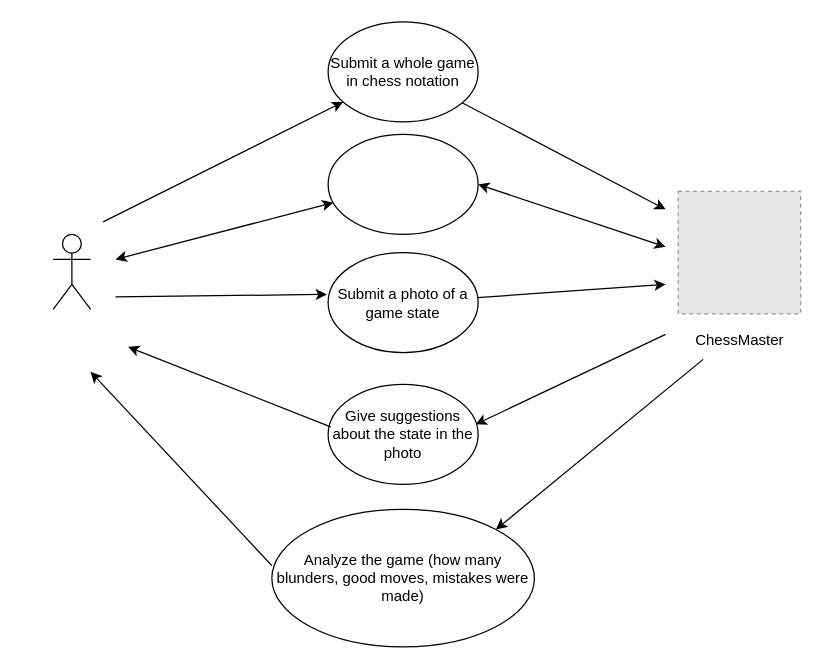
The diagram is 823 pixels wide and 669 high, and some of its shapes have lost their labels. Grey dashed boxes stand in for pictures. The centre of each missing label's shape, as x and y in pixels:
"Opponent/User" belongs at pixel 71 271.
"Play against" belongs at pixel 402 183.
